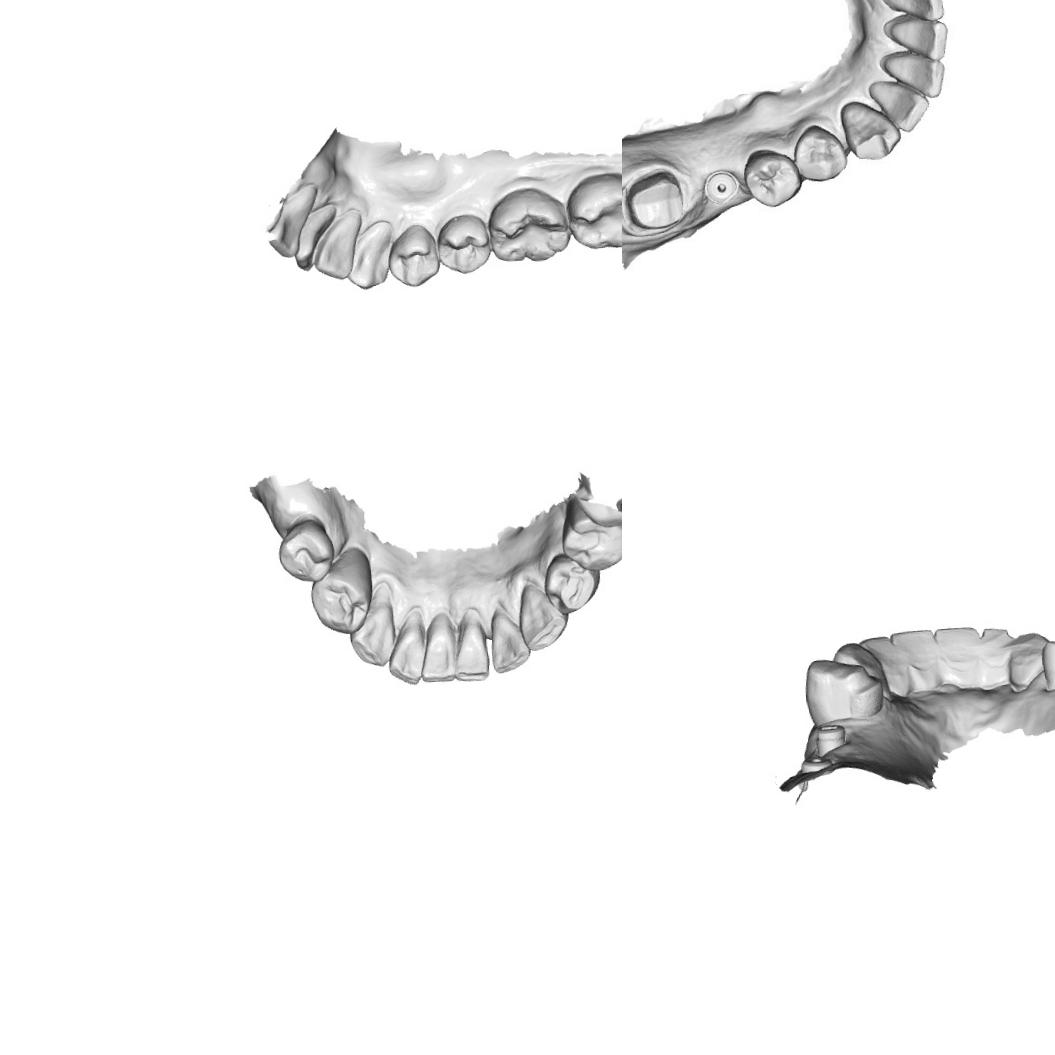canine: (836, 94, 902, 165), (342, 216, 398, 290), (516, 583, 571, 654), (346, 602, 399, 670), (1004, 630, 1052, 693), (830, 638, 876, 670)
crown: (622, 165, 688, 236)
implant: (701, 166, 740, 206)
incisor: (307, 207, 368, 284), (263, 180, 321, 260), (289, 202, 340, 278), (866, 75, 931, 133), (875, 50, 946, 103), (882, 12, 949, 68), (932, 623, 982, 690), (451, 618, 496, 684), (486, 611, 530, 675), (416, 620, 459, 685), (383, 625, 424, 686), (979, 624, 1014, 686), (876, 0, 945, 24), (889, 625, 935, 660), (857, 633, 894, 661)
molar: (484, 184, 575, 268), (563, 167, 622, 252)
premolar: (801, 654, 885, 729), (553, 495, 622, 574), (306, 562, 372, 636), (431, 210, 494, 278), (384, 220, 444, 291), (740, 146, 802, 211), (274, 520, 336, 584), (539, 549, 599, 613), (789, 120, 848, 184), (1038, 629, 1055, 692)
